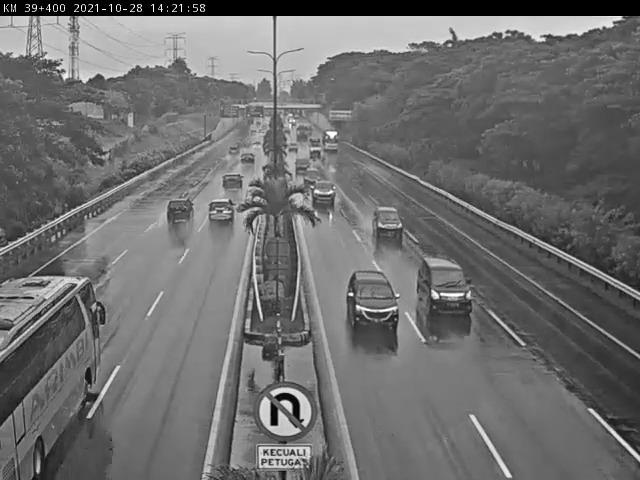big bus: (0, 271, 101, 480)
car: (412, 255, 478, 319), (346, 273, 399, 328), (372, 202, 410, 246), (204, 198, 237, 230), (166, 193, 194, 221), (311, 182, 338, 210), (301, 171, 322, 187), (219, 178, 240, 194), (237, 151, 257, 165), (294, 152, 309, 170)
